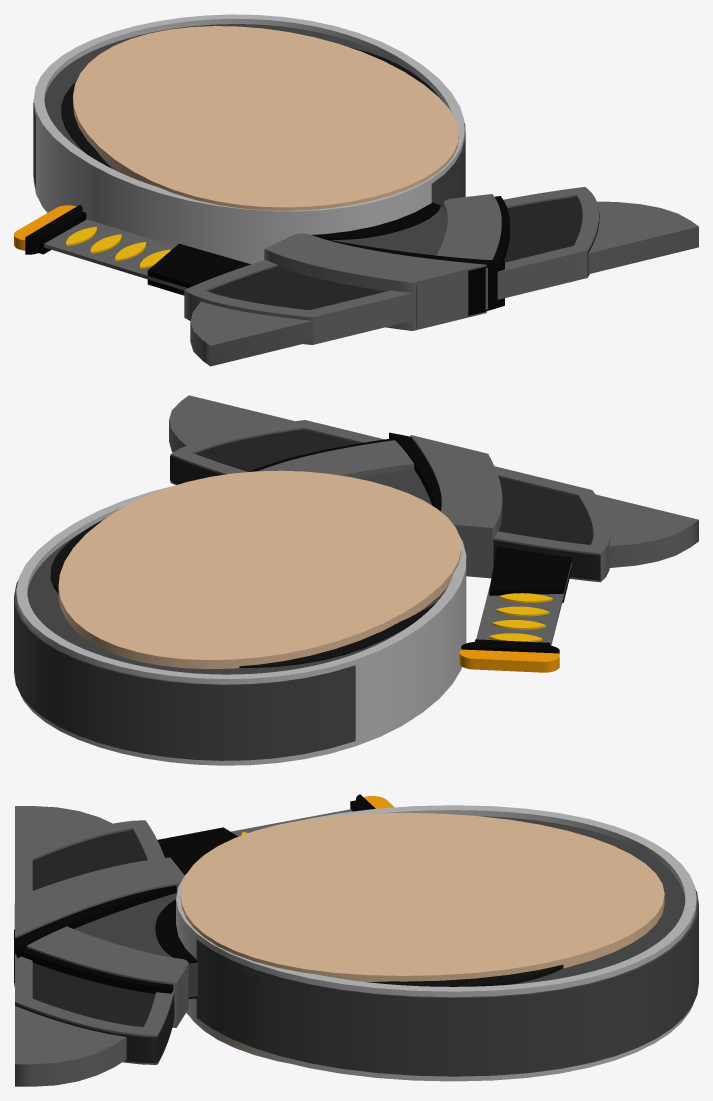
Rendered from emoji_u1f977_1f3fc.glb.
3 renders of one model, top to bottom at view 1: azimuth 30°, elevation 25°; view 2: azimuth 150°, elevation 25°; view 3: azimuth 270°, elevation 25°, orthographic. The views are drawn at different scales.
Visible parts, largest first — view 1: emoji_u1f977_1f3fc; view 2: emoji_u1f977_1f3fc; view 3: emoji_u1f977_1f3fc.
Part boxes in pixels (x1,y1,x2,y2): emoji_u1f977_1f3fc: (14, 14, 698, 366); emoji_u1f977_1f3fc: (14, 395, 698, 765); emoji_u1f977_1f3fc: (14, 794, 698, 1086).
Bounding box in the file's own units: 0.0314 × 0.0052 × 0.0332.
